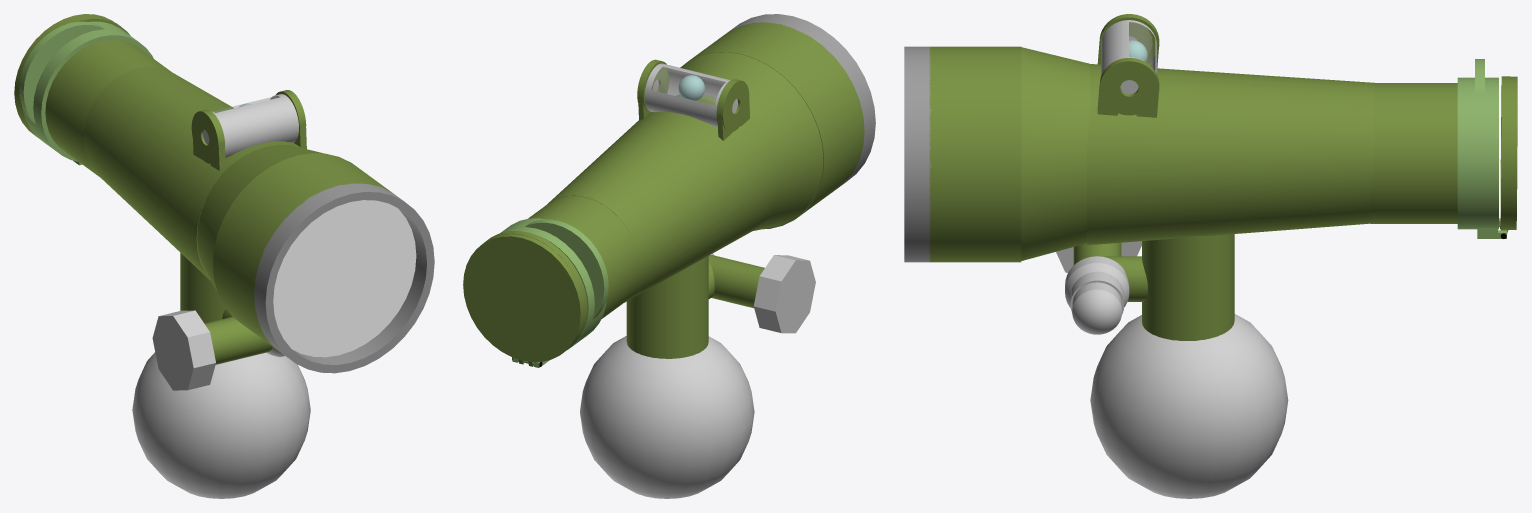
3 views of the same model, side by side, from view 1: azimuth 30°, elevation 25°; view 2: azimuth 150°, elevation 25°; view 3: azimuth 270°, elevation 25° (orthographic). The views are drawn at different scales.
Parts seen in each view (by area): view 1: Объект_Сфера_2, Объект_Диск, Объект_Труба_2_2, Объект_Труба_4, Объект_Труба_4_2, Объект_Труба_3_2, MATRIX_ROTATION, Объект_Труба_1, Объект_Цилиндр_1, Объект_Труба_5, Объект_Цилиндр, Объект_Цилиндр_2_2 (+3 smaller); view 2: Объект_Труба_2_2, Объект_Сфера_2, Объект_Цилиндр_3, Объект_Труба_4, Объект_Труба_1, Объект_Цилиндр_3_2, Объект_Труба_3_2, MATRIX_ROTATION, Объект_Труба_4_2, Объект_Цилиндр_1, Объект_Цилиндр, Объект_Цилиндр_2_2 (+6 smaller); view 3: Объект_Труба_2_2, Объект_Сфера_2, Объект_Труба_4, Объект_Труба_1, Объект_Труба_3_2, Объект_Цилиндр_3_2, Объект_Труба_5, Объект_Труба_4_2, Объект_Труба_3, Объект_Цистерна, Объект_Цилиндр_1, Объект_Труба (+7 smaller).
Part boxes in pixels (x1,y1,x2,y2): Объект_Сфера_2: (132, 352, 310, 498); Объект_Диск: (273, 200, 416, 357); Объект_Труба_2_2: (83, 66, 301, 280); Объект_Труба_4: (213, 153, 391, 353); Объект_Труба_4_2: (254, 183, 434, 373); Объект_Труба_3_2: (45, 39, 171, 176); MATRIX_ROTATION: (152, 310, 215, 390); Объект_Труба_1: (197, 144, 323, 291); Объект_Цилиндр_1: (203, 94, 298, 157); Объект_Труба_5: (23, 21, 153, 161); Объект_Цилиндр: (19, 21, 104, 123); Объект_Цилиндр_2_2: (204, 316, 272, 364); Объект_Труба_2_2: (547, 94, 781, 302); Объект_Сфера_2: (580, 336, 754, 498); Объект_Цилиндр_3: (463, 234, 585, 362); Объект_Труба_4: (680, 22, 864, 229); Объект_Труба_1: (681, 52, 823, 230); Объект_Цилиндр_3_2: (626, 256, 708, 358); Объект_Труба_3_2: (528, 196, 640, 318); MATRIX_ROTATION: (753, 255, 815, 333); Объект_Труба_4_2: (729, 14, 875, 188); Объект_Цилиндр_1: (644, 63, 737, 127); Объект_Цилиндр: (525, 219, 608, 319); Объект_Цилиндр_2_2: (708, 255, 764, 308); Объект_Труба_2_2: (1087, 64, 1374, 245); Объект_Сфера_2: (1090, 314, 1288, 498); Объект_Труба_4: (929, 46, 1021, 262); Объект_Труба_1: (1021, 47, 1089, 260); Объект_Труба_3_2: (1370, 83, 1457, 223); Объект_Цилиндр_3_2: (1142, 234, 1234, 340); Объект_Труба_5: (1457, 77, 1498, 229); Объект_Труба_4_2: (904, 46, 931, 262); Объект_Труба_3: (1099, 58, 1159, 115); Объект_Цистерна: (1072, 282, 1122, 334); Объект_Цилиндр_1: (1101, 20, 1156, 94); Объект_Труба: (1500, 76, 1510, 229).
Size of the model in its own units: 170 by 380 by 467.
